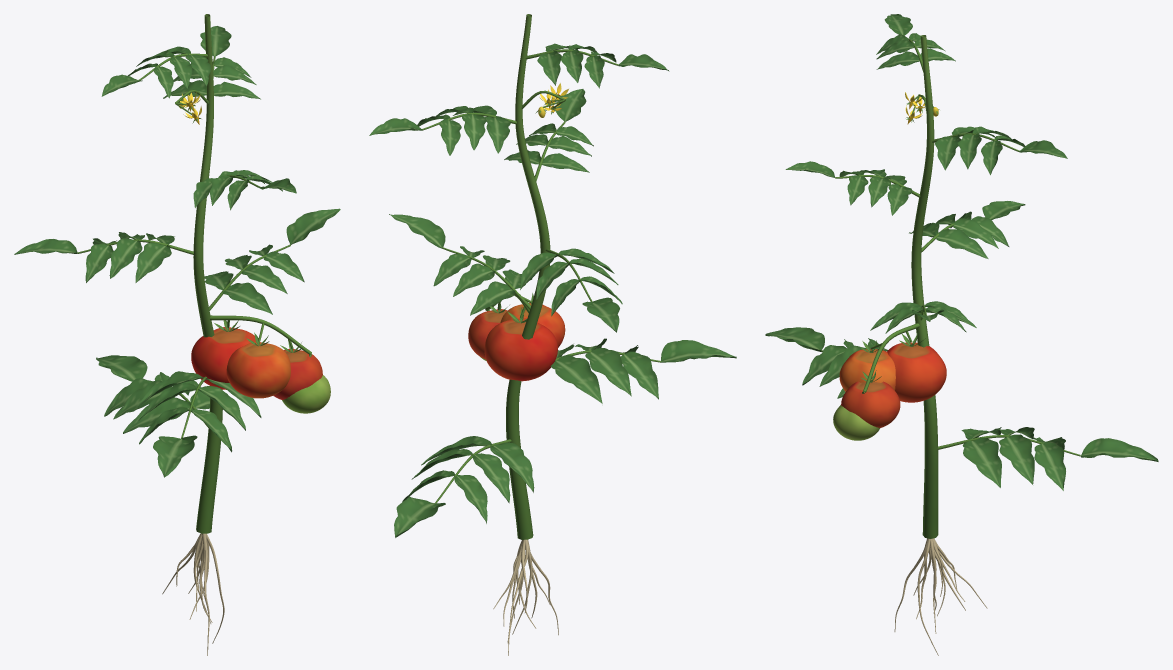
The model's file is 52_Ituzumdoshlar.glb.
3 views of the same model, side by side, from view 1: azimuth 30°, elevation 25°; view 2: azimuth 150°, elevation 25°; view 3: azimuth 270°, elevation 25° (orthographic). The views are drawn at different scales.
Visible parts, largest first — view 1: leaf, fruit, stem, root; view 2: leaf, stem, fruit, root; view 3: leaf, fruit, stem, root.
Boxes of the visible parts, x1,y1,x2,y2 form: leaf: (14, 26, 340, 477); fruit: (191, 327, 330, 413); stem: (77, 14, 311, 533); root: (162, 533, 224, 655); leaf: (369, 43, 736, 537); stem: (422, 14, 661, 539); fruit: (468, 303, 565, 381); root: (493, 539, 558, 655); leaf: (765, 14, 1158, 490); fruit: (833, 342, 946, 440); stem: (821, 35, 1080, 538); root: (894, 538, 987, 655).
Size of the model in its own units: 0.4366 by 0.9596 by 0.5572.
